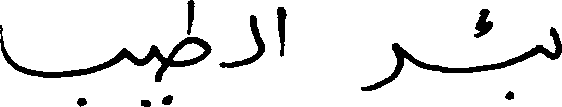ئ: (473, 6, 548, 74)
ا: (274, 5, 285, 57)
ب: (0, 23, 128, 106), (502, 24, 560, 100)
ر: (361, 40, 403, 91)
ط: (151, 0, 209, 83)
ل: (208, 13, 264, 68)
ي: (138, 43, 168, 105)
